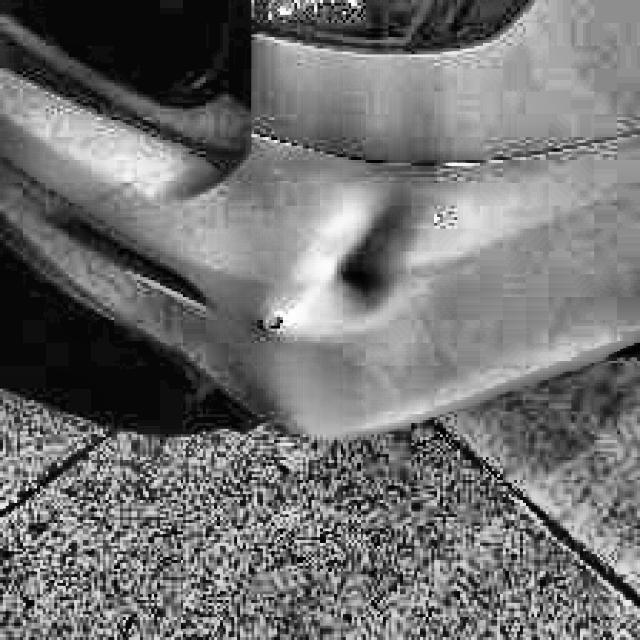bumper_dent: (264, 200, 402, 337)
